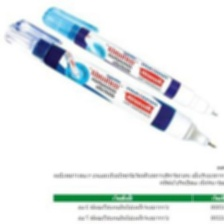correction_fluid: (2, 17, 218, 149), (40, 6, 220, 118)
